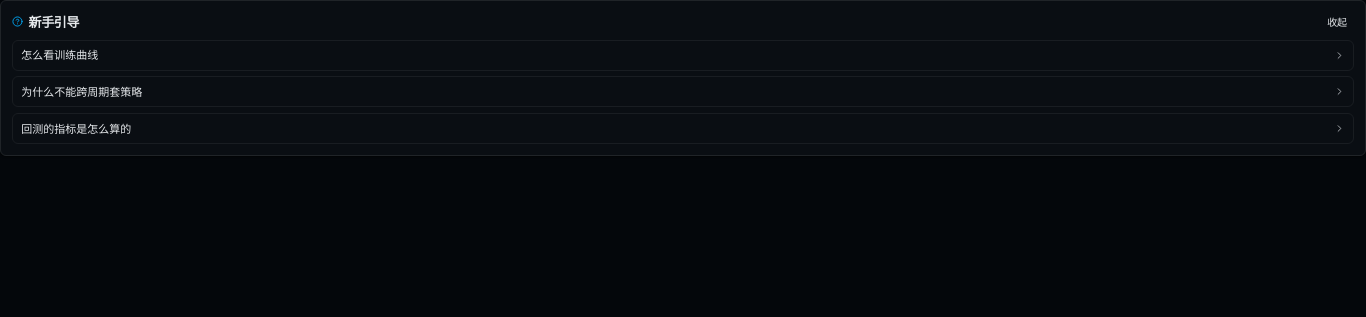
Test: AlphaMiningGuide 教学文案 › 收起按钮折叠所有正文
What coordinates should you click on to do the following:
click the button "怎么看训练曲线"
I would click on:
 (60, 54)
Its box is [13, 40, 1353, 70].
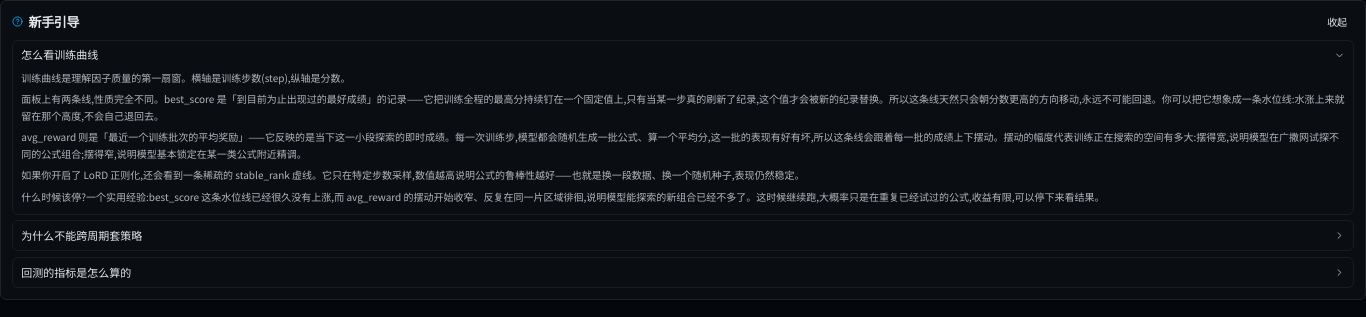
Expected: the text "best_score 是「到目前为止出现过的最好成绩」的记录" is shown, [21, 91, 1345, 123]
What coordinates should you click on to do the following:
click the button "收起"
I would click on:
 (1337, 22)
Its box is [1320, 12, 1354, 31].
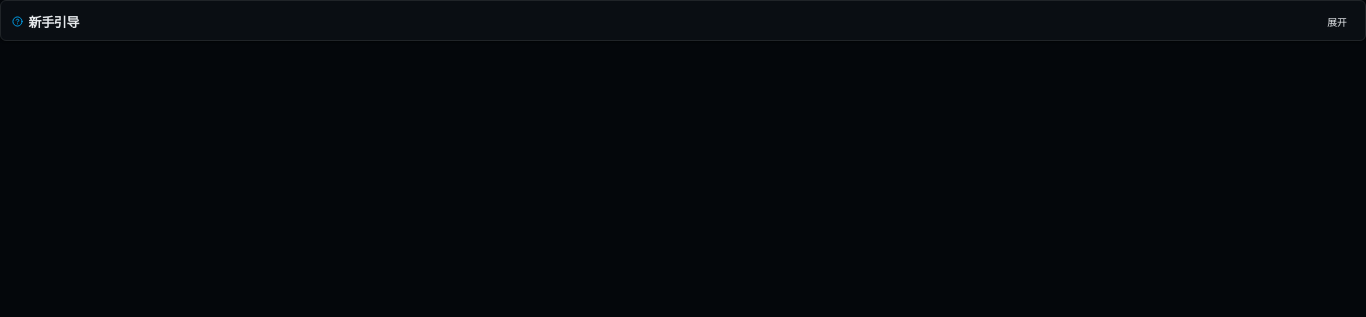
Expected: the text "best_score 是「到目前为止出现过的最好成绩」的记录" is gone
